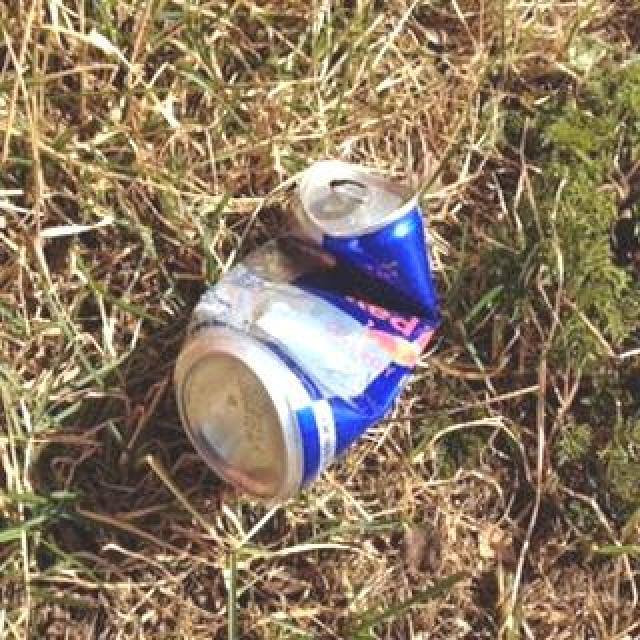Can: (165, 146, 437, 506)
